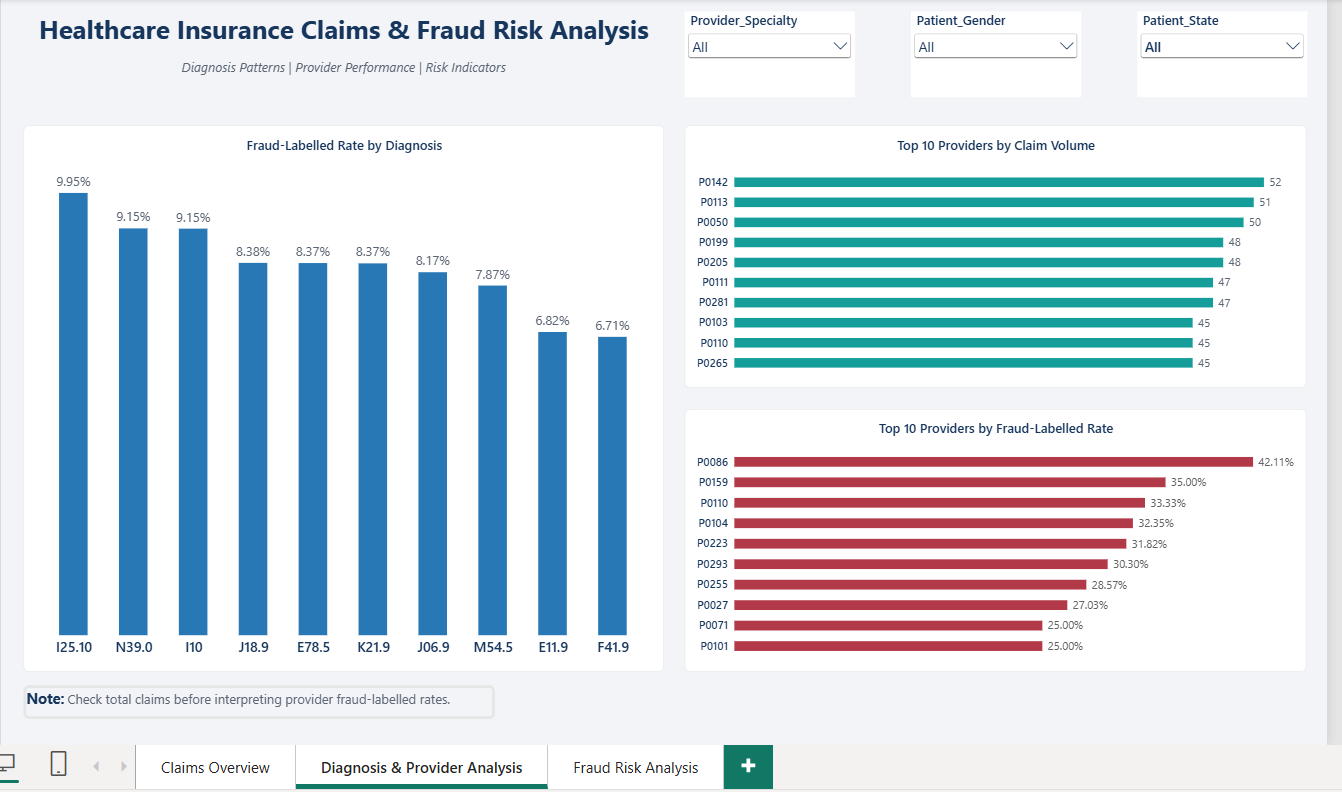

This screenshot's page, from the dashboard's own definition file:
{"tool":"powerbi","page":{"name":"Diagnosis & Provider Analysis","canvas":[1920,1080],"ordinal":1},"visuals":[{"type":"textbox","box":[33,17.5,927.2,124.4],"z":0},{"type":"clusteredColumnChart","title":"Fraud-Labelled Rate by Diagnosis","fields":{"Category":["healthcare_fraud_detection.Diagnosis_Code"],"Y":["#Measures.Fraud Labelled Rate %"]},"box":[33,182.7,927.2,791.1],"z":1},{"type":"clusteredBarChart","title":"Top 10 Providers by Claim Volume","fields":{"Category":["healthcare_fraud_detection.Provider_ID"],"Y":["#Measures.Total Claims"]},"box":[989.4,182.7,899.9,380],"z":2},{"type":"clusteredBarChart","title":"Top 10 Providers by Fraud-Labelled Rate","fields":{"Category":["healthcare_fraud_detection.Provider_ID"],"Y":["#Measures.Fraud Labelled Rate %"]},"box":[989.4,592.8,899.9,380],"z":3},{"type":"textbox","box":[33,993.2,682.2,48.6],"z":4},{"type":"slicer","fields":{"Values":["healthcare_fraud_detection.Patient_Gender"]},"box":[1317.8,17.5,246,124],"z":5},{"type":"slicer","fields":{"Values":["healthcare_fraud_detection.Patient_State"]},"box":[1644.4,17.5,246,124],"z":6},{"type":"slicer","fields":{"Values":["healthcare_fraud_detection.Provider_Specialty"]},"box":[989.4,17.5,246,124],"z":7}]}

Visuals, with their boxes on the page's 1920x1080 design canvas (x1, y1, x2, y2). These are canvas units, not pixel positions in the 1342x792 screenshot, which may show the page scaled, cropped or inside an application window:
textbox: select_region(33, 18, 960, 142)
"Fraud-Labelled Rate by Diagnosis" clusteredColumnChart: select_region(33, 183, 960, 974)
"Top 10 Providers by Claim Volume" clusteredBarChart: select_region(989, 183, 1889, 563)
"Top 10 Providers by Fraud-Labelled Rate" clusteredBarChart: select_region(989, 593, 1889, 973)
textbox: select_region(33, 993, 715, 1042)
slicer - healthcare_fraud_detection.Patient_Gender: select_region(1318, 18, 1564, 142)
slicer - healthcare_fraud_detection.Patient_State: select_region(1644, 18, 1890, 142)
slicer - healthcare_fraud_detection.Provider_Specialty: select_region(989, 18, 1235, 142)
